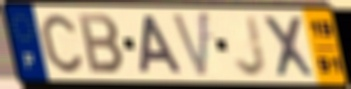A: (138, 13, 185, 76)
B: (76, 11, 128, 76)
C: (39, 12, 85, 75)
J: (232, 13, 269, 79)
V: (169, 9, 211, 82)
X: (260, 14, 318, 80)
